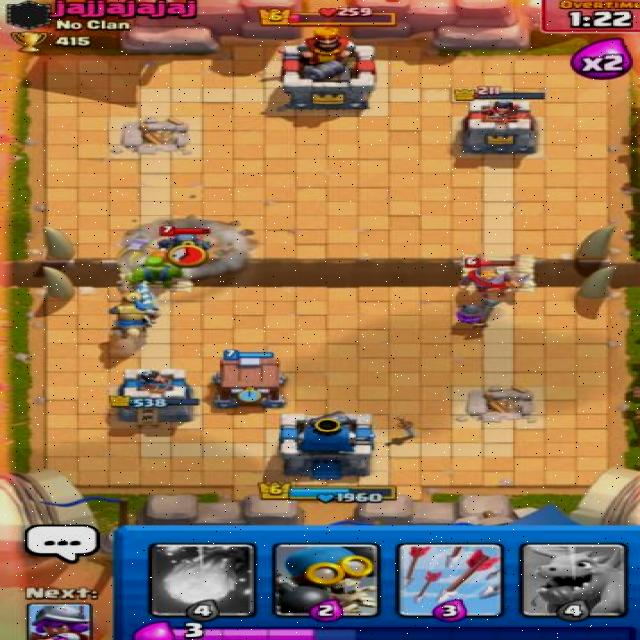Enemy-Knight: (456, 257, 533, 300)
Enemy-MiniPEKKA: (154, 224, 216, 263)
Player-Brawler: (120, 254, 190, 296)
Player-GoblinCage: (207, 347, 295, 409)
Player-Musketeer: (446, 291, 504, 337)
Player-Prince: (106, 279, 162, 339)
